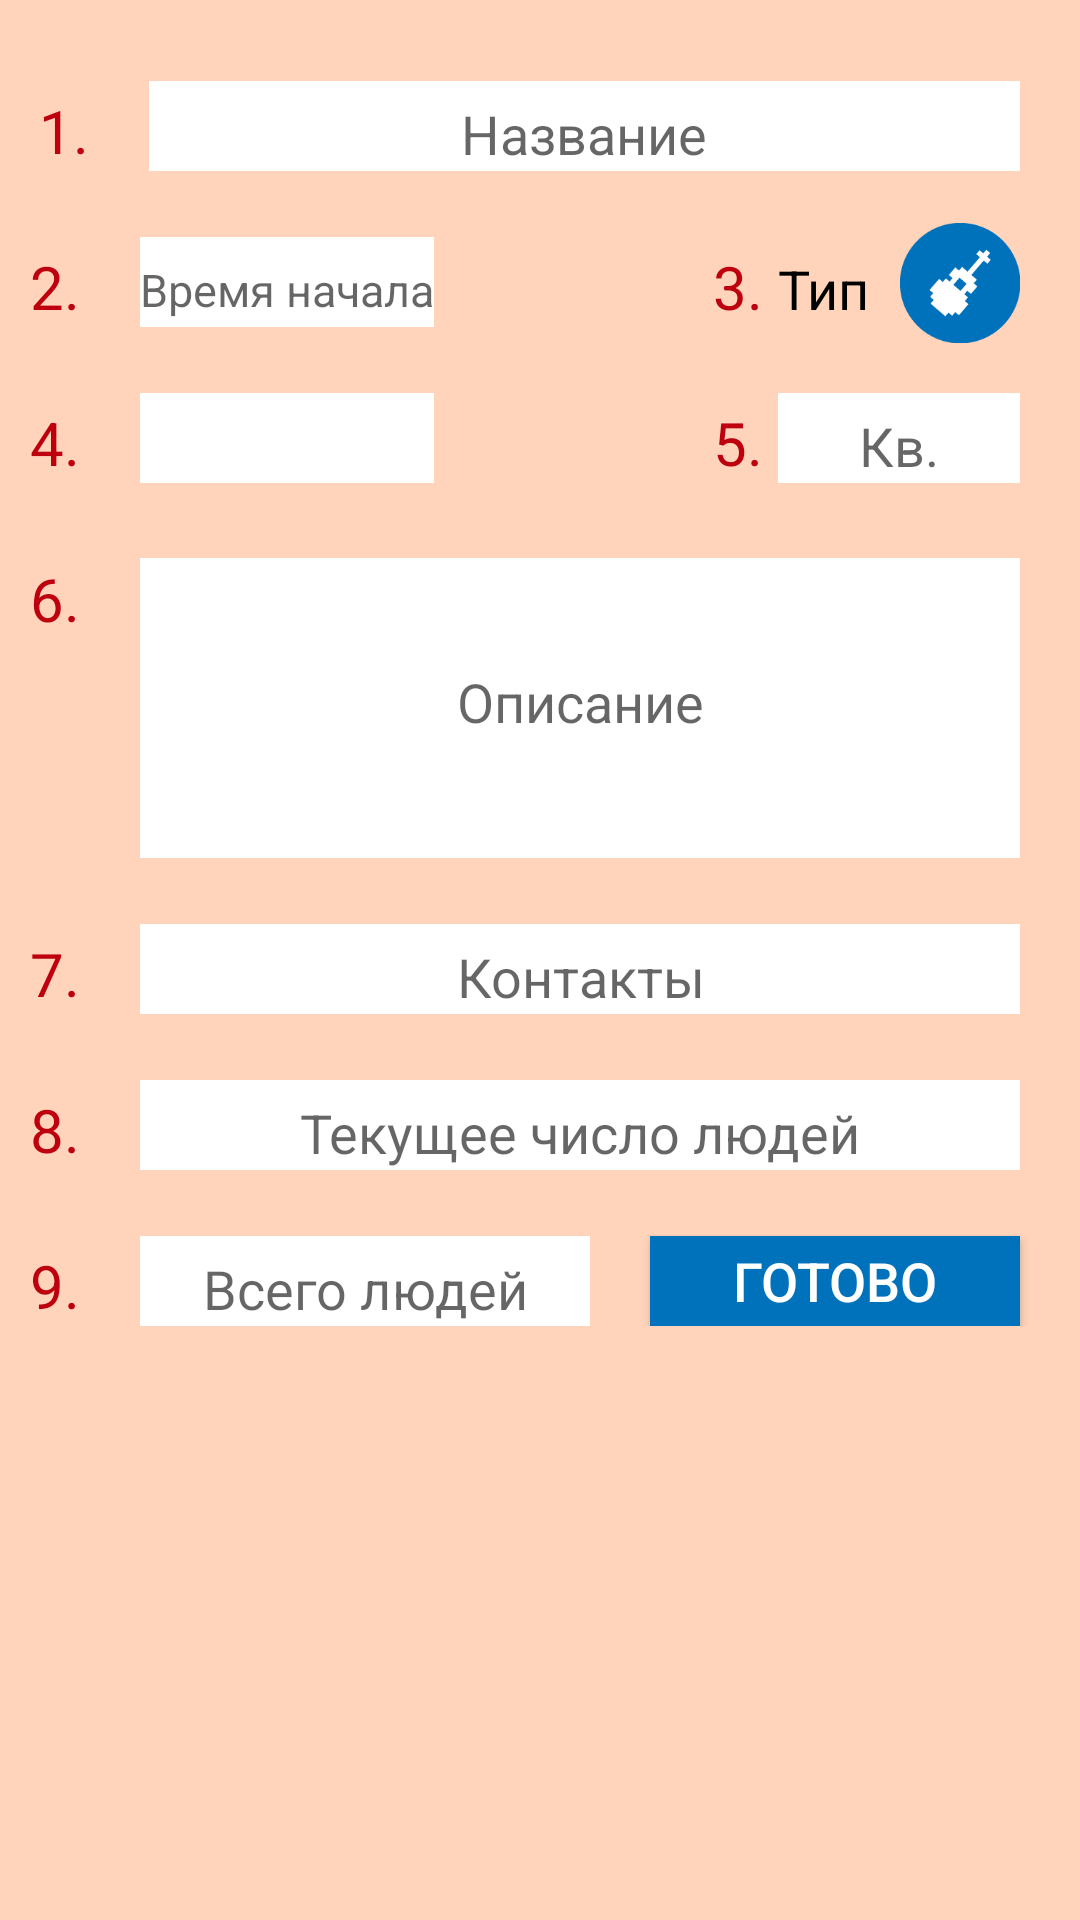

Named icons in this screenshot (1080x1920) and their bounding boxes, (x1,y1,x2,y2):
guitar: (900,223,1020,343)
